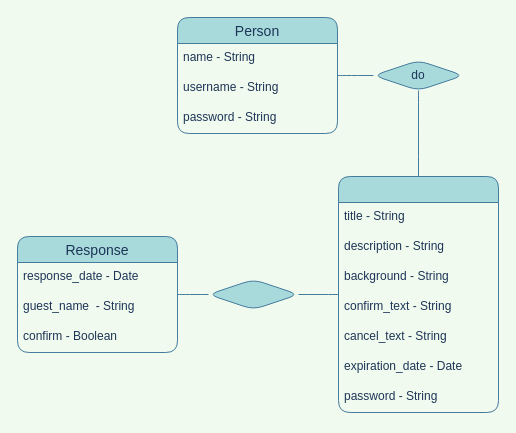
Some shapes in this 516 by 433 pixel diagram are drawn without their labels. Each missing label, with the box of its shape:
Event: (338, 176, 498, 412)
has: (208, 278, 298, 310)
